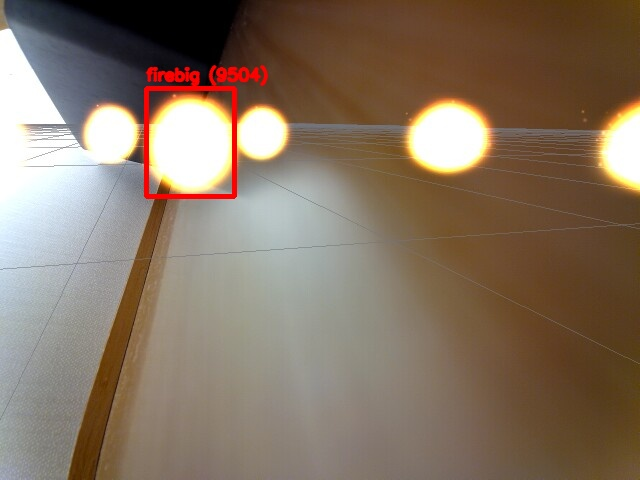firebig: (146, 88, 234, 196)
